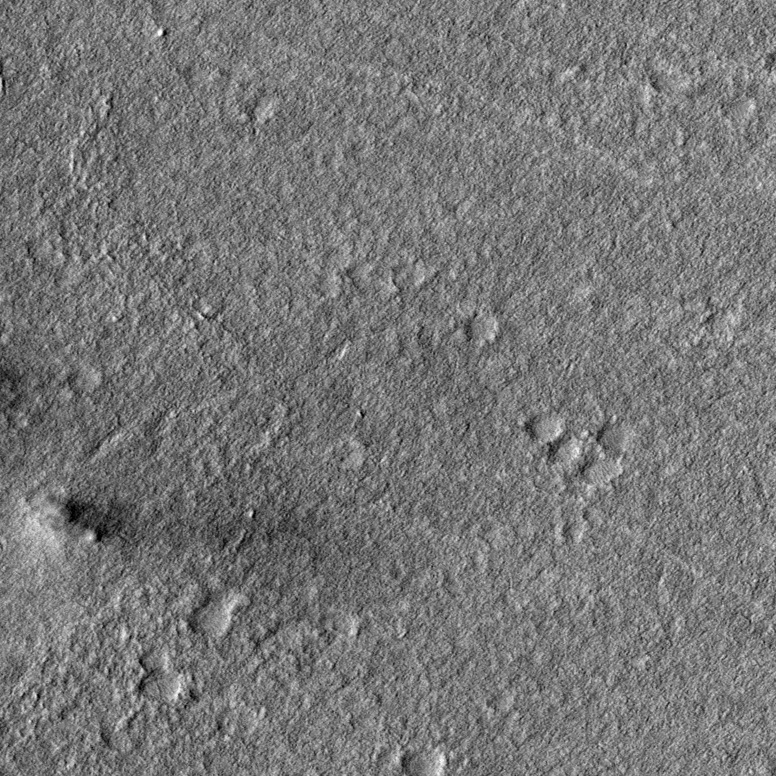dust_devil: (20, 492, 280, 550)
